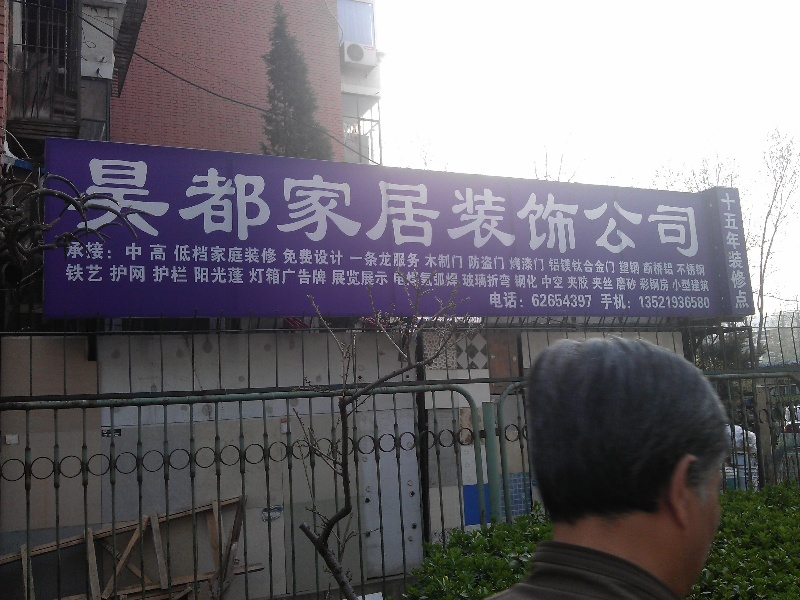text: (721, 190, 736, 311), (737, 190, 751, 311), (81, 156, 96, 258), (97, 156, 112, 258), (113, 156, 128, 258), (129, 156, 144, 258), (145, 156, 160, 258), (161, 156, 176, 258), (177, 156, 192, 258), (193, 156, 208, 258), (209, 156, 224, 258), (225, 156, 240, 258), (241, 156, 256, 258), (257, 156, 272, 258), (273, 156, 288, 258), (289, 156, 304, 258), (305, 156, 320, 258), (321, 156, 336, 258), (337, 156, 352, 258), (353, 156, 368, 258), (369, 156, 384, 258), (385, 156, 400, 258), (401, 156, 416, 258), (417, 156, 432, 258), (433, 156, 448, 258), (449, 156, 464, 258), (465, 156, 480, 258), (481, 156, 496, 258), (497, 156, 512, 258), (513, 156, 528, 258), (529, 156, 544, 258), (545, 156, 560, 258), (561, 156, 576, 258), (577, 156, 592, 258), (593, 156, 608, 258), (609, 156, 624, 258), (625, 156, 640, 258), (641, 156, 656, 258), (657, 156, 672, 258), (673, 156, 688, 258), (689, 156, 703, 258), (74, 156, 80, 258), (81, 241, 96, 265), (97, 241, 112, 265), (113, 241, 128, 265), (129, 241, 144, 265), (145, 241, 160, 265), (161, 241, 176, 265), (177, 241, 192, 265), (193, 241, 208, 265), (209, 241, 224, 265), (225, 241, 240, 265), (241, 241, 256, 265), (257, 241, 272, 265), (66, 241, 80, 265), (577, 291, 593, 309), (289, 248, 304, 267), (305, 248, 320, 267), (321, 248, 336, 267), (449, 253, 465, 270), (497, 291, 512, 309), (513, 291, 528, 309), (529, 291, 544, 309), (545, 291, 560, 309), (561, 291, 576, 309), (337, 269, 352, 287), (353, 269, 368, 287), (369, 269, 384, 287), (257, 268, 272, 286), (273, 268, 288, 286), (289, 268, 304, 286), (305, 268, 320, 286), (113, 265, 128, 283), (129, 265, 144, 283), (81, 264, 96, 282), (353, 251, 368, 268), (369, 251, 384, 268), (385, 251, 400, 268), (401, 251, 416, 268), (433, 253, 448, 270), (193, 267, 208, 284), (209, 267, 224, 284), (225, 267, 240, 284), (161, 266, 176, 283), (66, 264, 80, 282), (561, 258, 576, 274), (577, 258, 592, 274), (593, 258, 608, 274), (401, 272, 416, 288), (417, 272, 432, 288), (433, 272, 448, 288), (609, 294, 624, 309), (625, 294, 640, 309), (641, 294, 656, 309), (657, 294, 672, 309), (673, 294, 688, 309), (689, 294, 704, 309), (481, 255, 496, 270), (465, 273, 480, 288), (481, 273, 496, 288), (529, 257, 545, 271), (513, 257, 528, 271), (625, 261, 640, 275), (657, 262, 672, 276), (689, 263, 704, 277), (641, 278, 656, 292), (514, 274, 528, 289), (497, 273, 511, 288), (593, 277, 608, 290), (545, 276, 560, 289), (548, 258, 560, 274), (177, 266, 188, 283), (643, 262, 656, 276), (468, 255, 480, 270), (673, 280, 688, 292), (689, 280, 704, 292), (657, 278, 669, 292), (577, 276, 589, 290), (677, 263, 688, 277), (625, 277, 636, 291), (337, 248, 345, 267), (488, 291, 496, 309), (449, 272, 458, 288), (424, 253, 432, 270), (152, 266, 160, 283), (529, 274, 538, 289), (719, 190, 720, 311), (497, 255, 505, 270), (609, 258, 616, 274), (616, 277, 624, 291), (568, 276, 576, 290), (250, 268, 256, 286), (321, 268, 327, 286), (97, 264, 103, 282), (601, 294, 608, 309), (705, 294, 712, 309), (273, 241, 277, 265), (394, 272, 400, 288), (283, 248, 288, 267), (705, 280, 711, 292), (332, 269, 336, 287), (385, 269, 389, 287), (619, 261, 624, 275), (609, 277, 613, 290), (417, 251, 420, 268), (241, 267, 244, 284), (509, 257, 512, 271), (541, 276, 544, 289), (110, 265, 112, 283), (350, 251, 352, 268), (462, 273, 464, 288), (561, 276, 563, 289), (145, 265, 146, 283), (673, 262, 674, 276), (705, 263, 706, 277)
